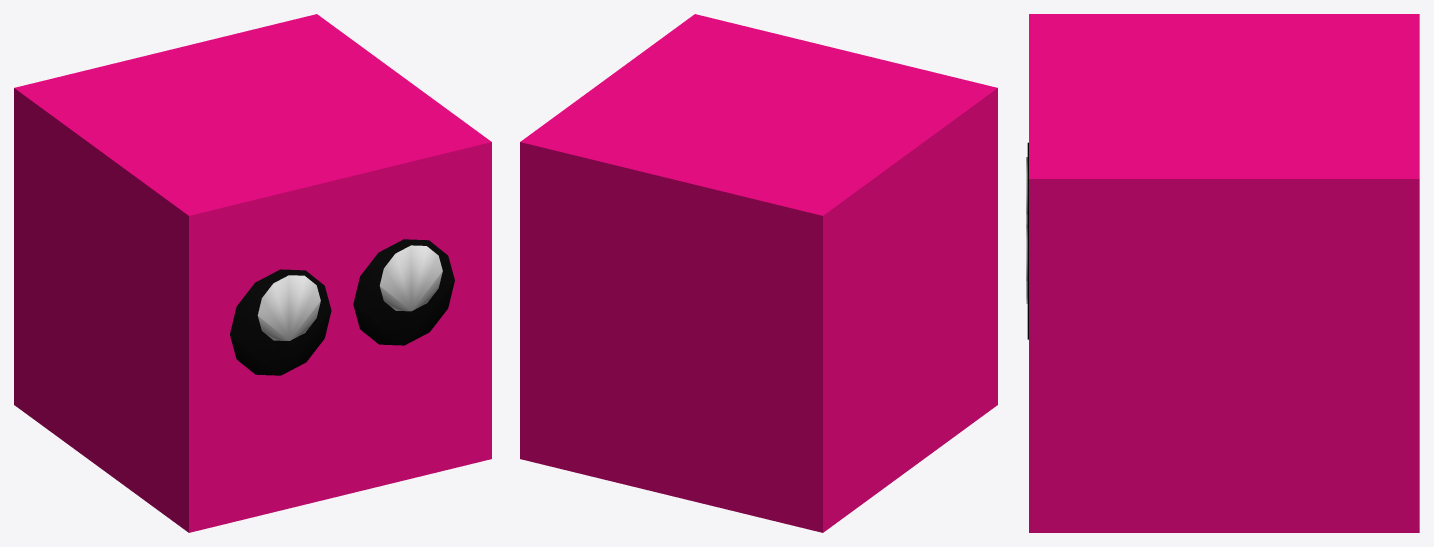
Rendered from petBox.fbx.
3 renders of one model, left to right at view 1: azimuth 30°, elevation 25°; view 2: azimuth 150°, elevation 25°; view 3: azimuth 270°, elevation 25°, orthographic. The views are drawn at different scales.
Visible parts, largest first — view 1: Cube.002, Cube.001; view 2: Cube.002; view 3: Cube.002, Cube.001.
Boxes of the visible parts, x1,y1,x2,y2 form: Cube.002: (14,14,491,532); Cube.001: (230,239,454,375); Cube.002: (520,14,997,532); Cube.002: (1029,14,1419,532); Cube.001: (1026,142,1028,339).
Size of the model in its own units: 0.9152 by 0.9152 by 0.9216.
